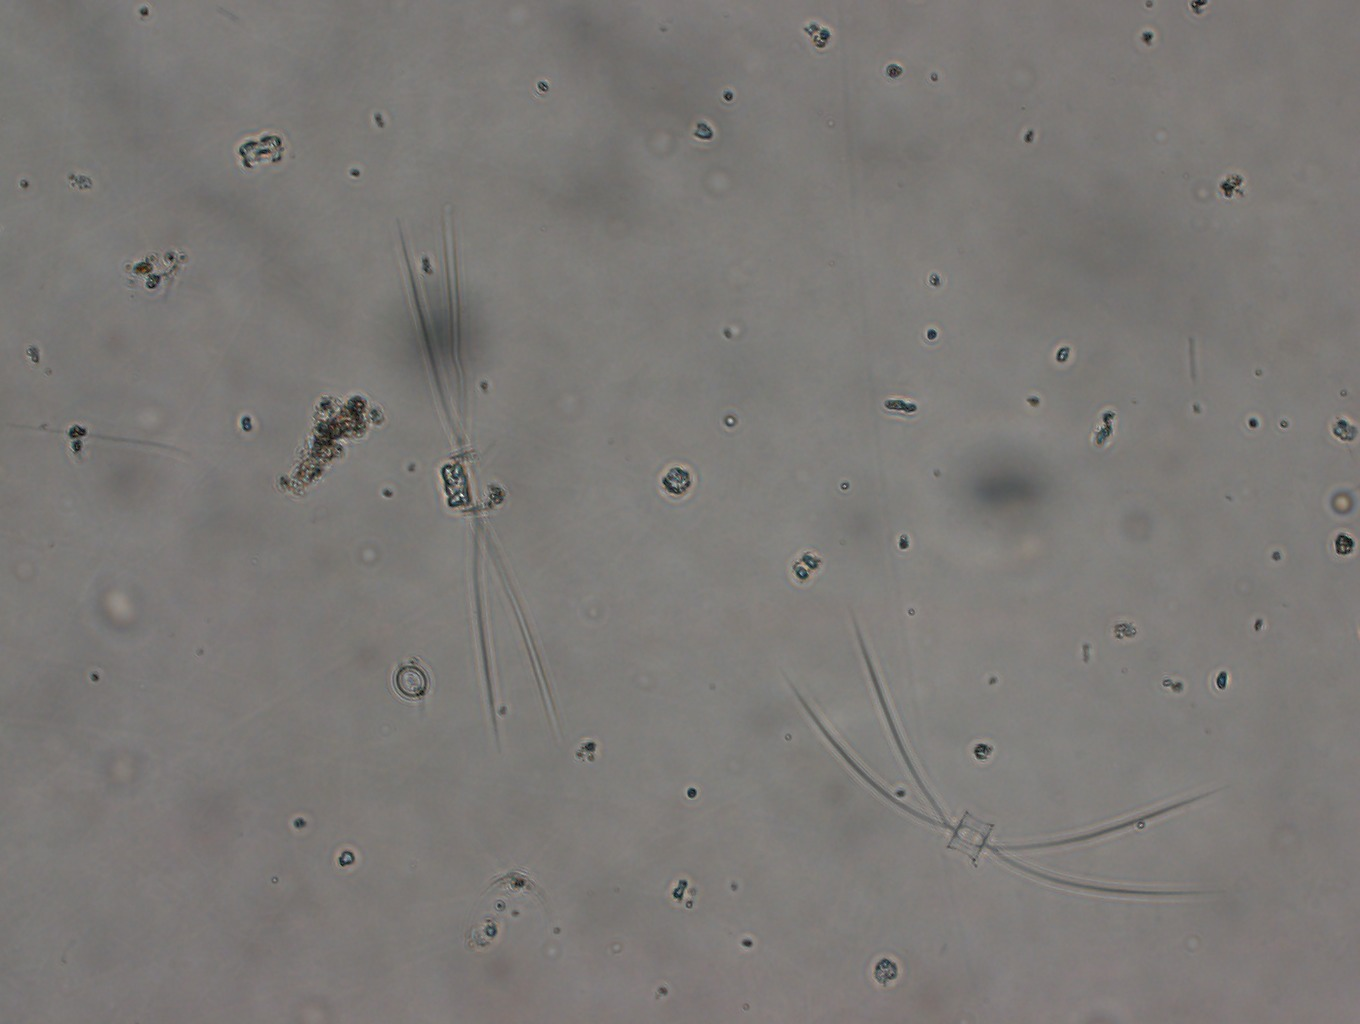chaetoceros: (784, 609, 1226, 898), (396, 203, 555, 749)
